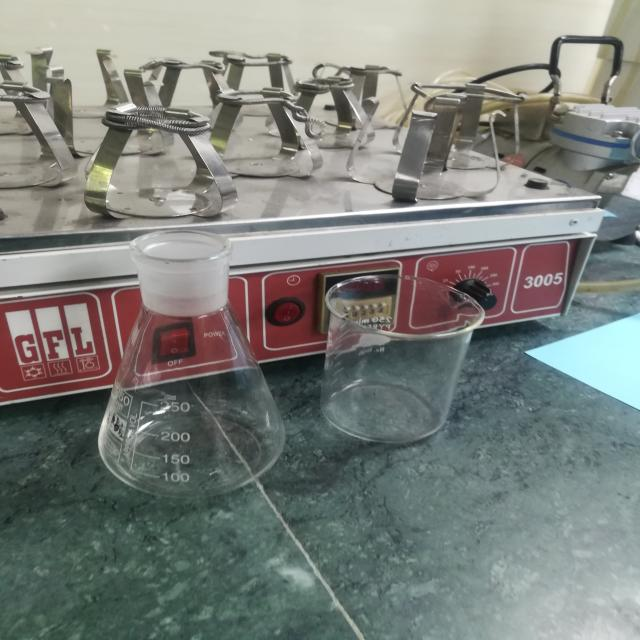Beaker: (314, 250, 490, 472)
Conical_Flask: (74, 194, 294, 537)
